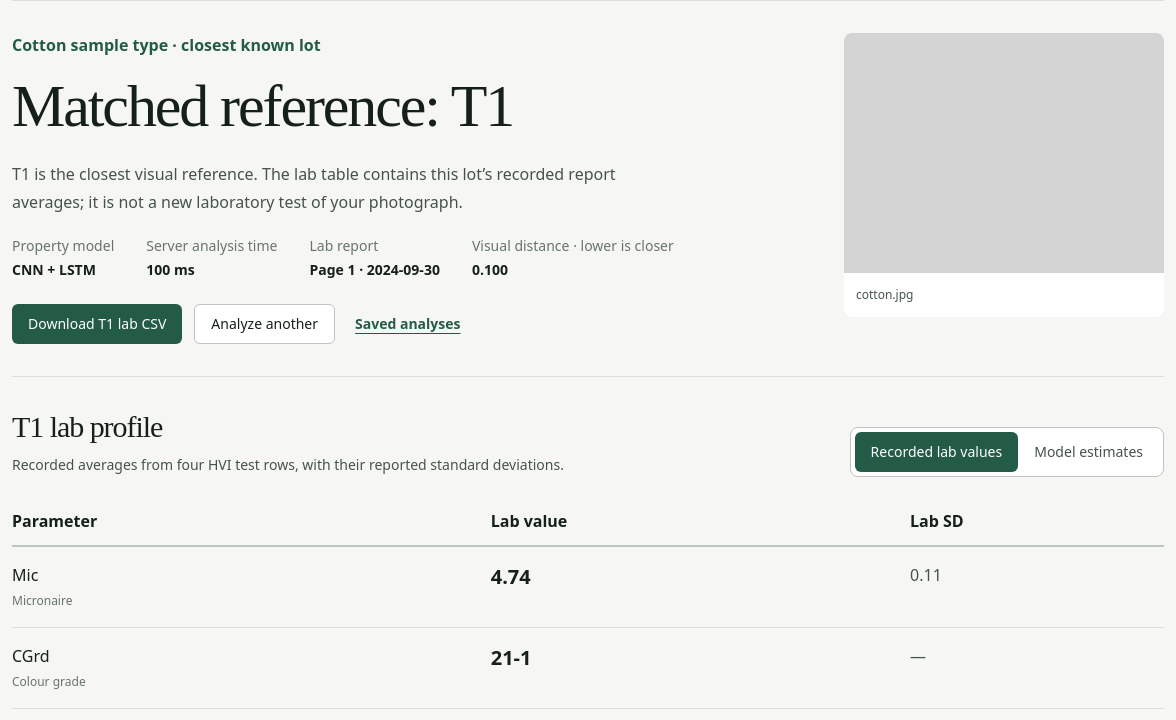
it: quality result evidence › shows predictions separately and never fills unsupported predictions from the lab
Click the tab "Model estimates" at (1089, 452), box [1018, 432, 1159, 472]
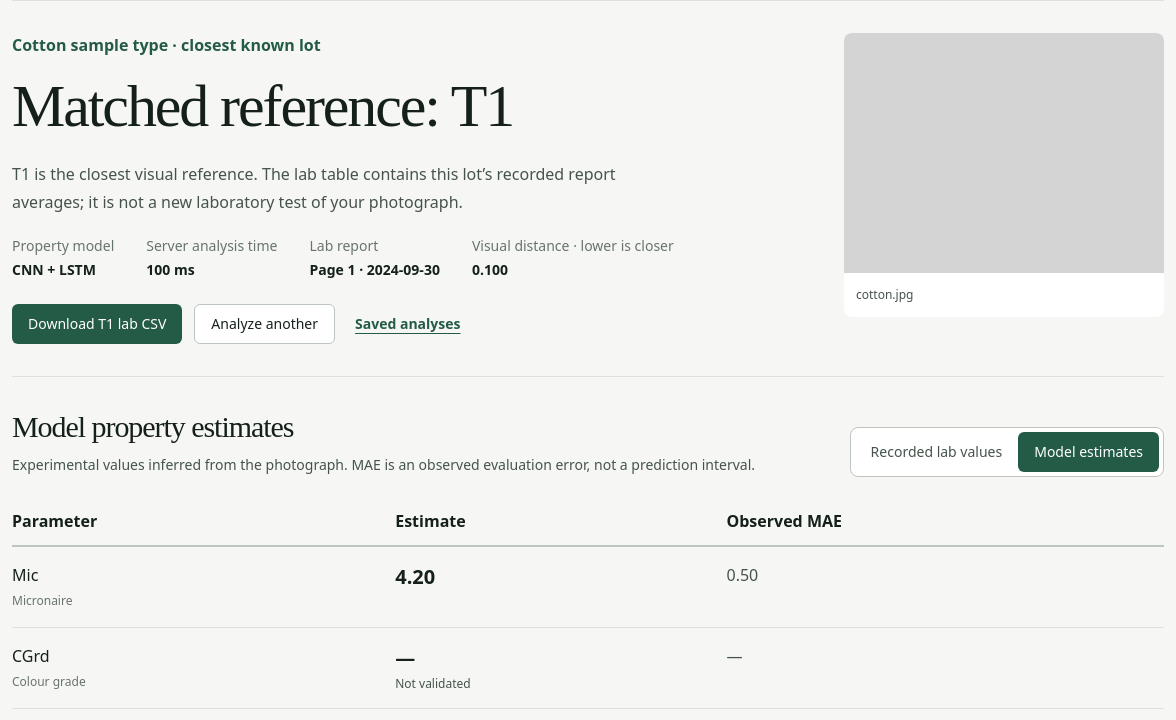
Expected: the text with test id "quality-micronaire" reads "4.20", [395, 563, 435, 590]
Expected: the text with test id "quality-colour_grade" reads "—", [395, 644, 415, 671]
Expected: the text "Not validated" is shown, [395, 675, 471, 692]
